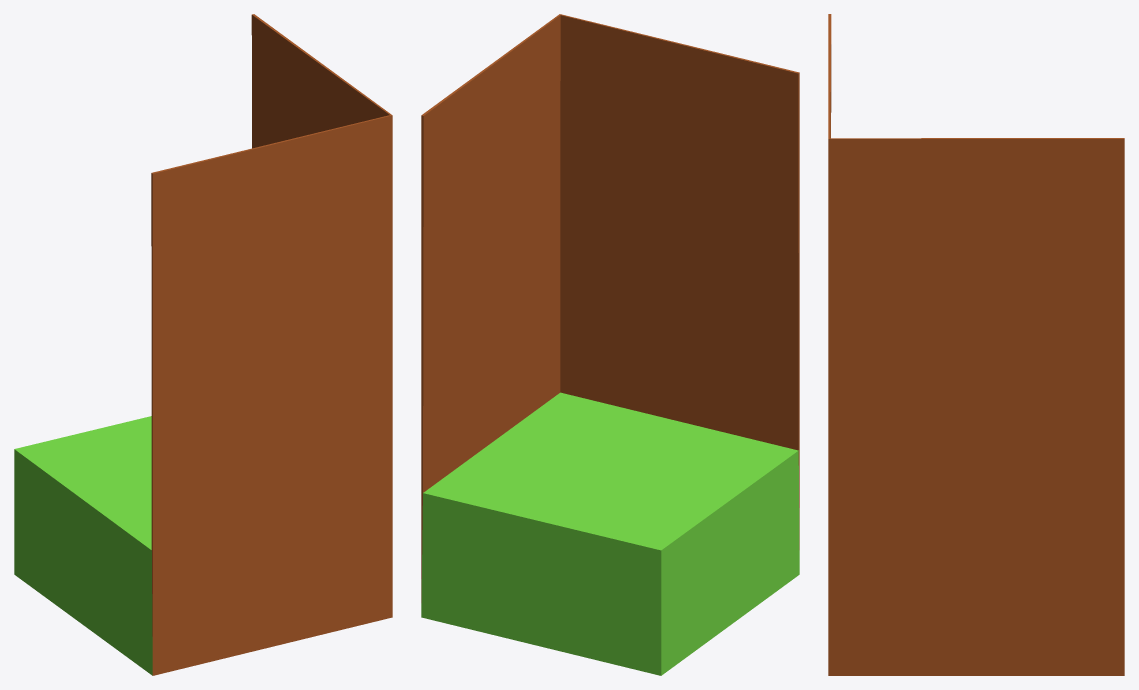
File: cornerInterior.fbx
3 renders of one model, left to right at view 1: azimuth 30°, elevation 25°; view 2: azimuth 150°, elevation 25°; view 3: azimuth 270°, elevation 25°, orthographic. The views are drawn at different scales.
Parts seen in each view (by area): view 1: cornerInterior; view 2: cornerInterior; view 3: cornerInterior.
Boxes of the visible parts, <box> form: cornerInterior: <box>14,14,392,675</box>; cornerInterior: <box>421,14,799,675</box>; cornerInterior: <box>828,14,1124,675</box>.
Size of the model in its own units: 100 by 100 by 200.
